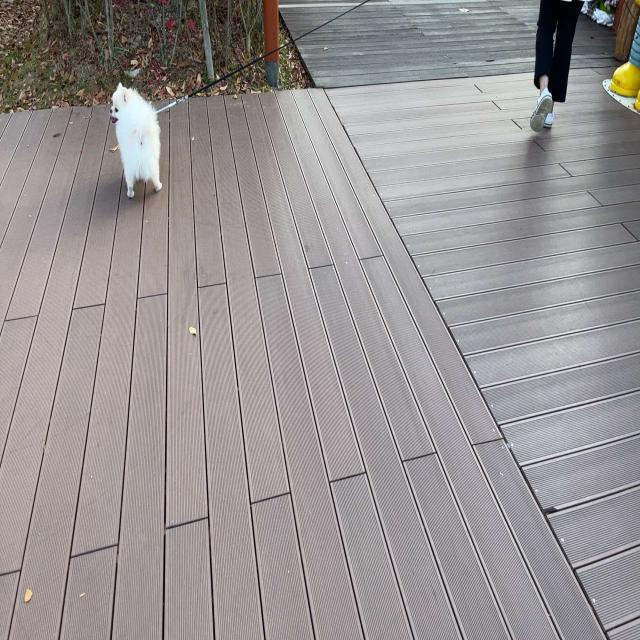Dog: (110, 80, 164, 200)
